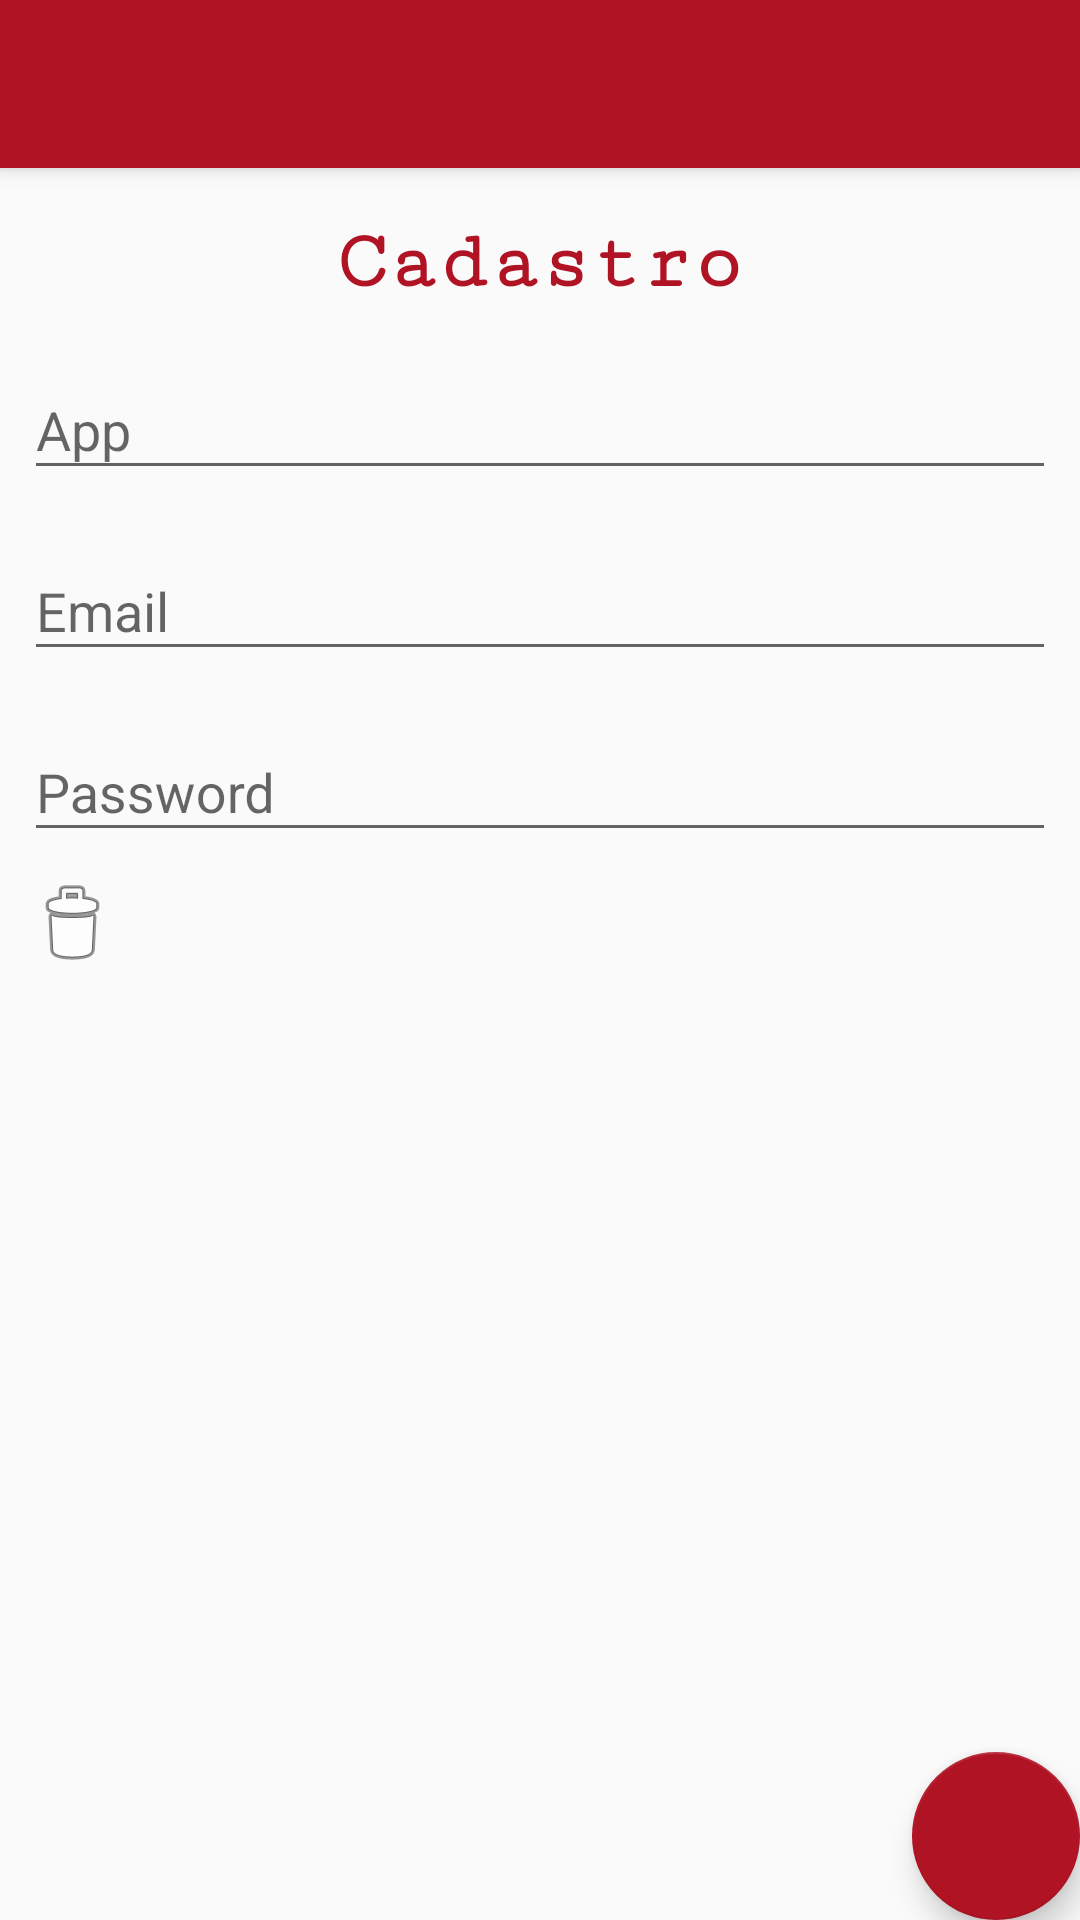

Icons on this 1080px×1920px Android screen, each with its box as (x1, y1, x2, y2):
delete: (45, 885, 100, 960)
